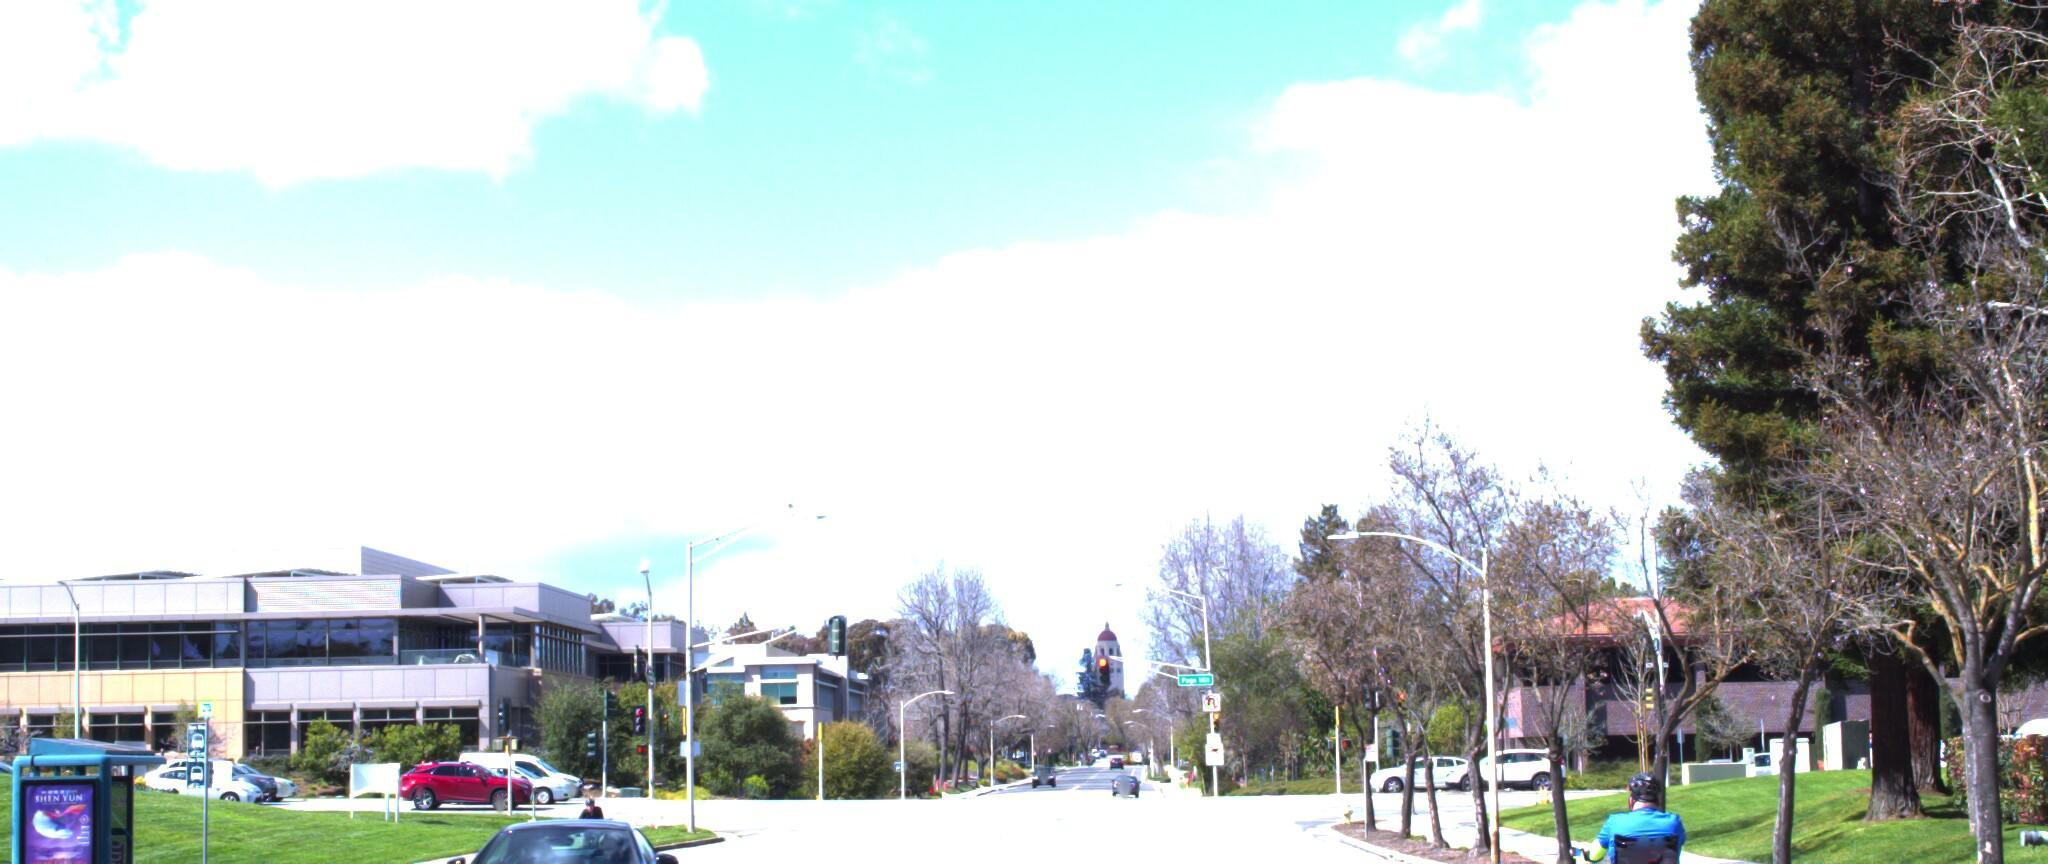bicycle: (1548, 765, 1714, 864), (560, 797, 614, 864)
car: (402, 812, 701, 864)
